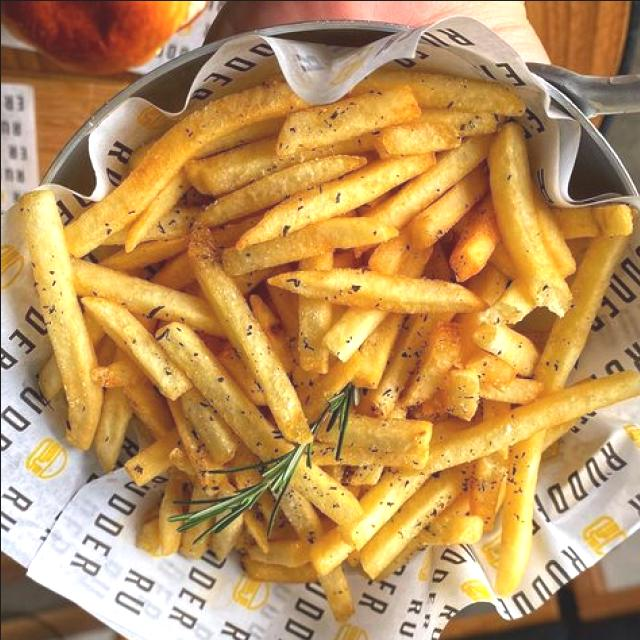kentang goreng: (14, 0, 640, 616)
